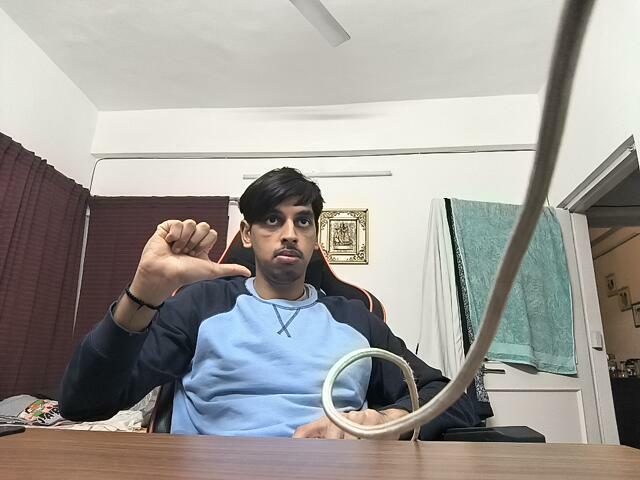LEFT: (131, 214, 259, 298)
